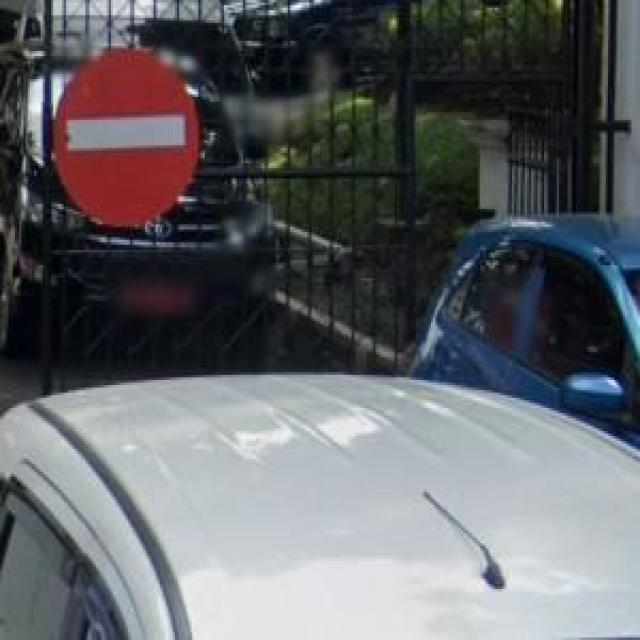traffic sign: (56, 49, 197, 230)
